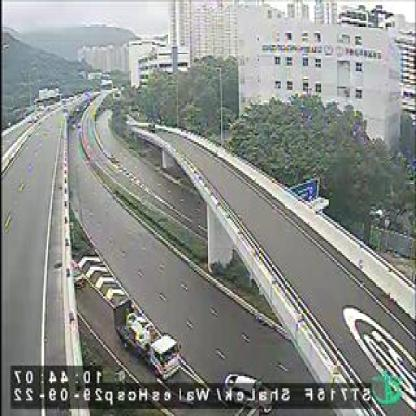Car: (220, 366, 276, 414)
Truck: (109, 293, 185, 376)
